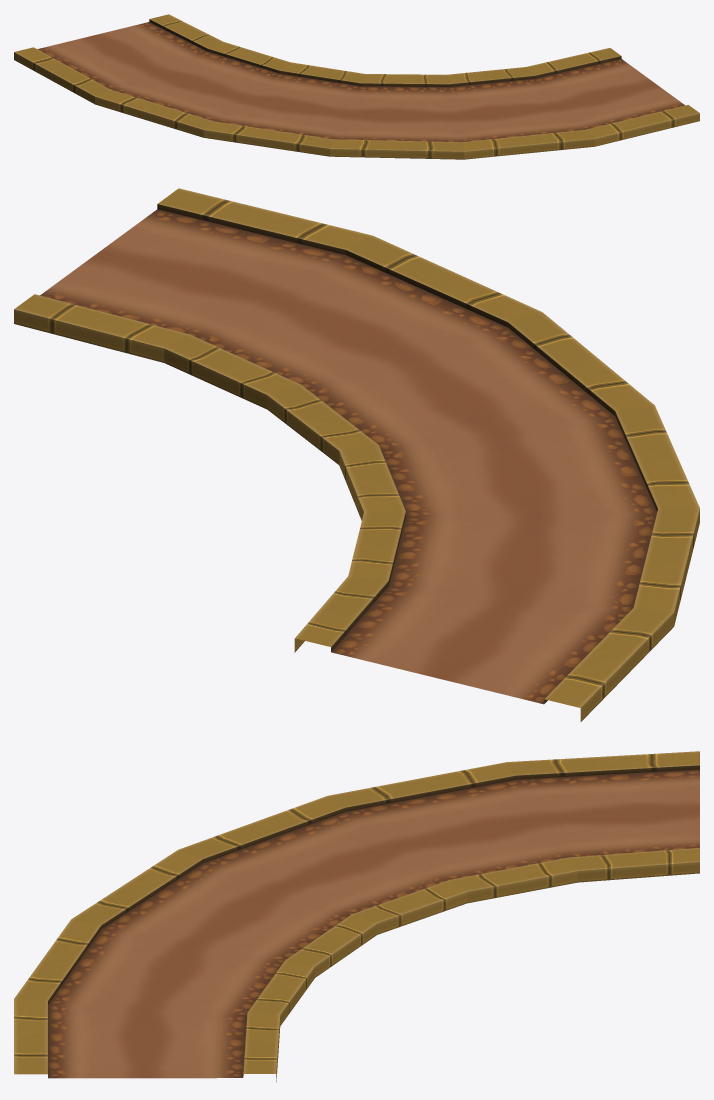
Rendered from RoadPiece_01.FBX.
3 renders of one model, top to bottom at view 1: azimuth 30°, elevation 25°; view 2: azimuth 150°, elevation 25°; view 3: azimuth 270°, elevation 25°, orthographic. The views are drawn at different scales.
Parts seen in each view (by area): view 1: RoadPiece_01; view 2: RoadPiece_01; view 3: RoadPiece_01.
Part boxes in pixels (x1,y1,x2,y2): RoadPiece_01: (14,14,699,159); RoadPiece_01: (14,188,699,721); RoadPiece_01: (14,751,699,1082).
Bounding box in the file's own units: 4.76 × 0.0795 × 4.28.
